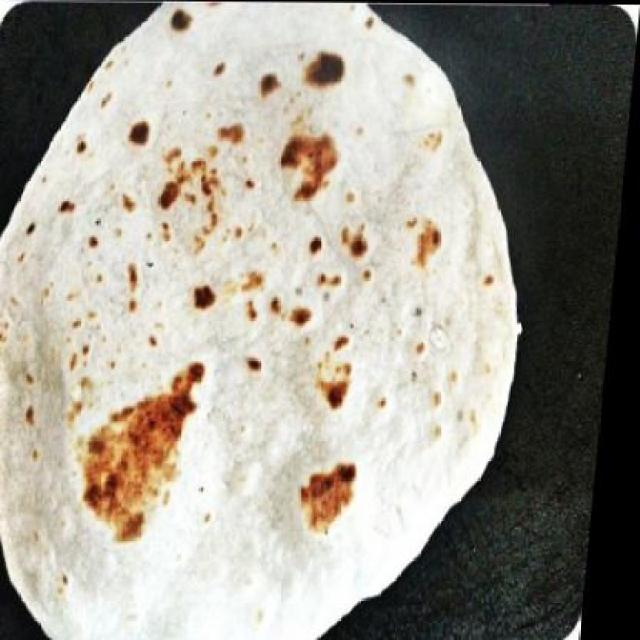chapati: (0, 0, 552, 638)
